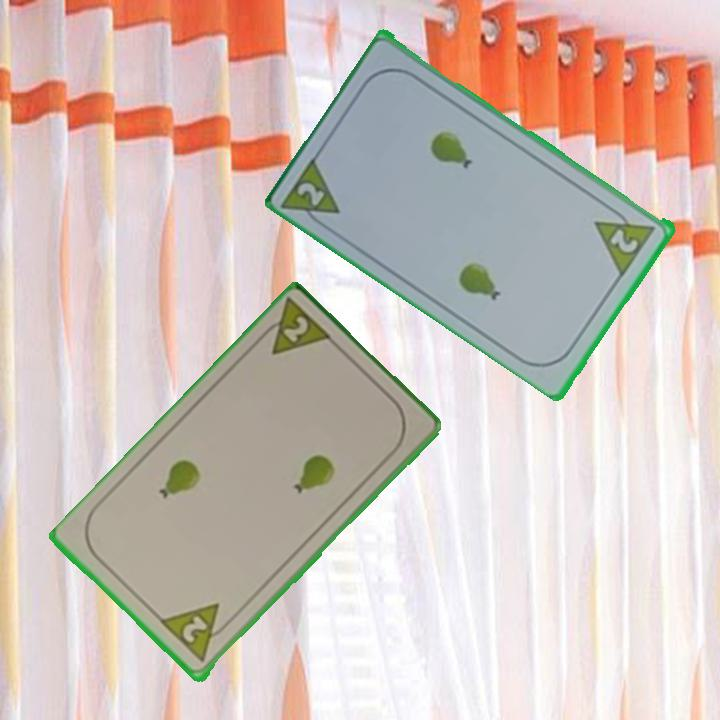2p: (253, 296, 337, 359), (591, 200, 659, 277), (178, 612, 211, 647), (294, 178, 328, 209)
